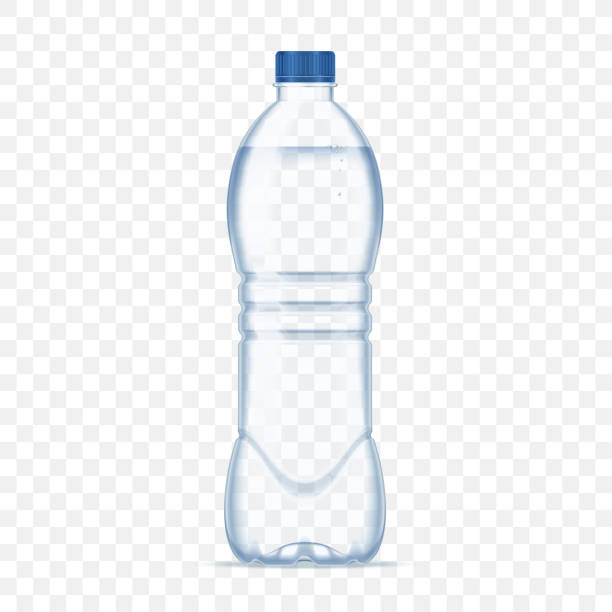HDPE Cap: (275, 49, 336, 74)
HDPE Ring: (275, 76, 334, 82)
PET Bottle: (221, 49, 387, 567)
